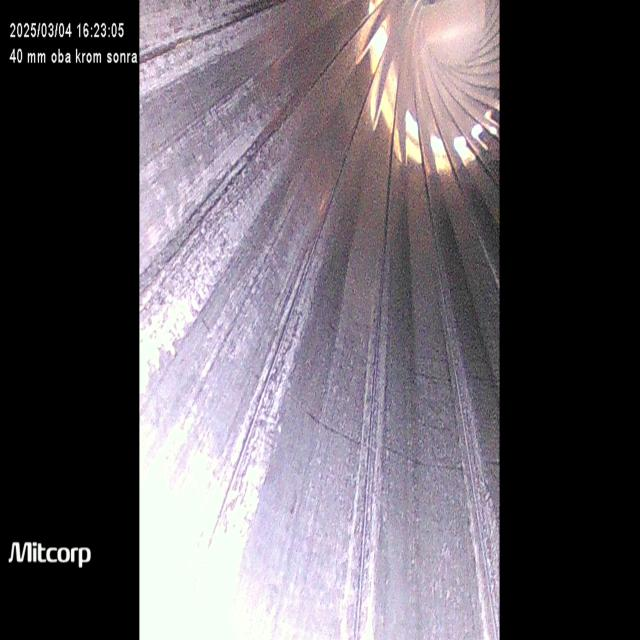hata_9.3: (145, 145, 273, 279), (140, 16, 245, 85), (140, 298, 196, 386)
